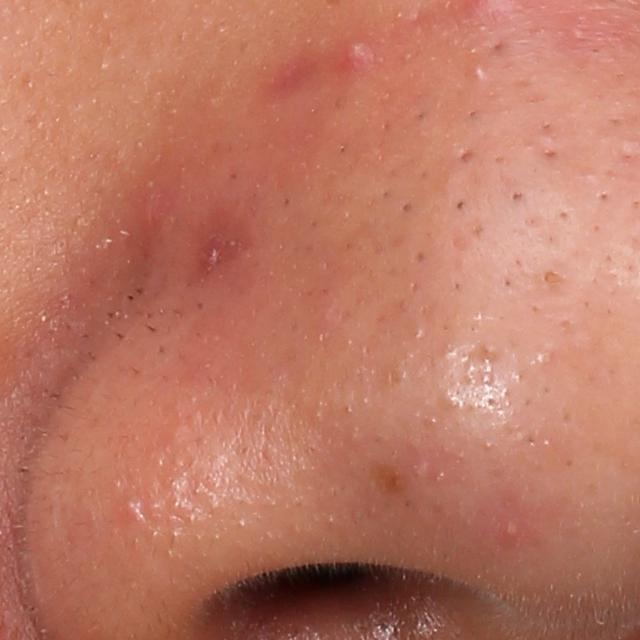atrophic_scar: (459, 145, 476, 166)
comedo: (595, 187, 615, 208), (542, 270, 564, 289), (508, 187, 528, 207), (397, 199, 417, 219), (451, 197, 470, 214)
papule: (339, 40, 374, 68)
